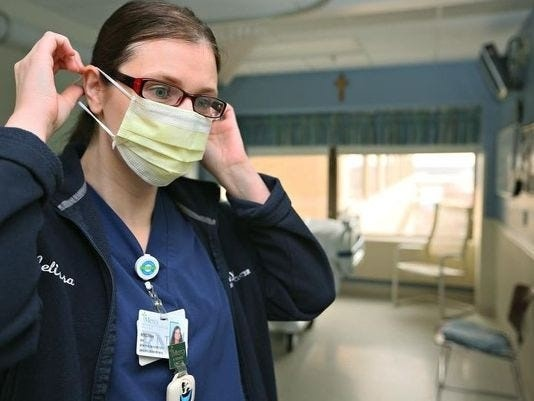face_with_mask: (83, 28, 232, 196)
